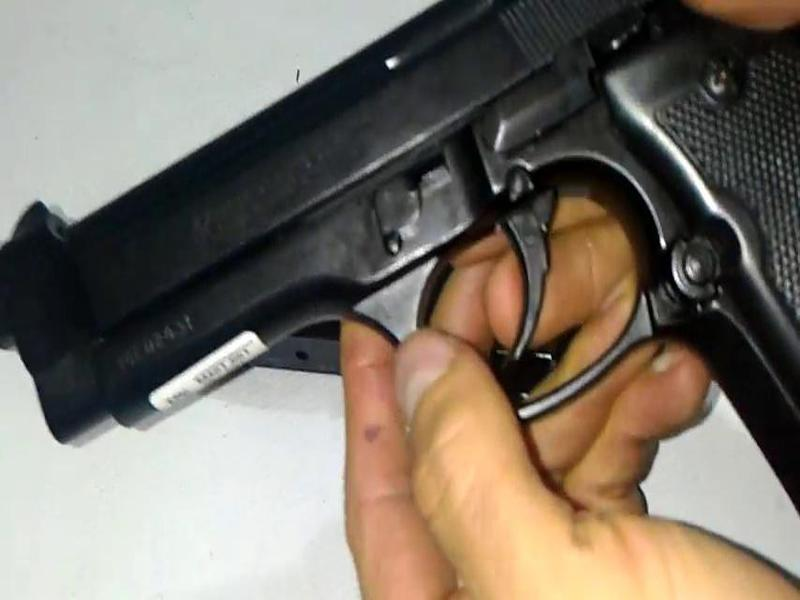Pistola: (26, 2, 800, 549)
